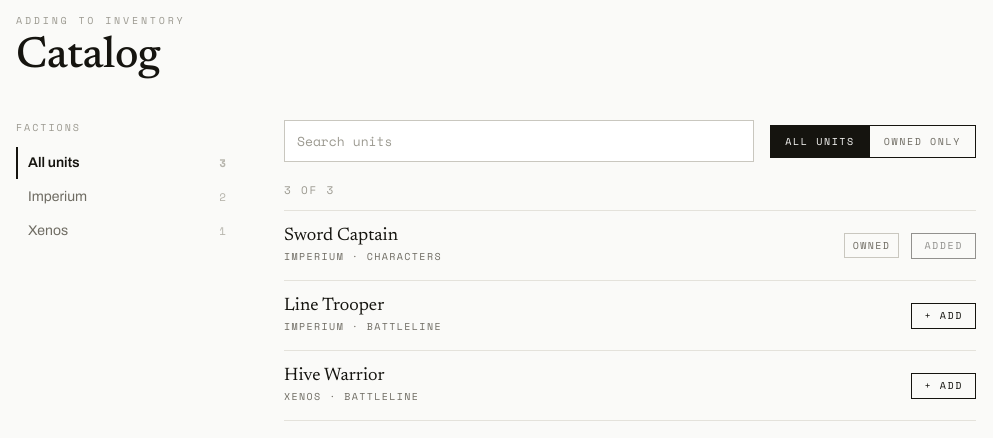
Scenario: CatalogView › filters units when a faction is selected
Check: the text "Hive Warrior" is shown, box [284, 367, 385, 385]
Click the button "Xenos 1": (126, 231) [16, 215, 236, 247]
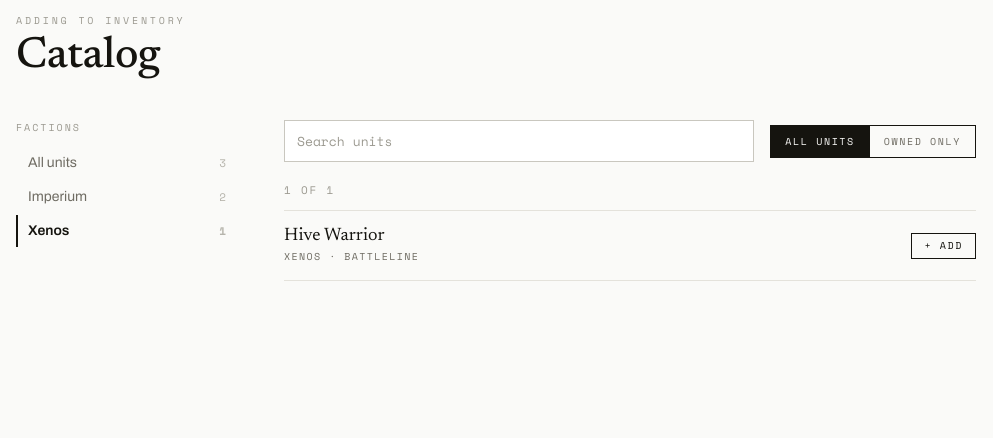
Check: the text "Hive Warrior" is shown, box [284, 227, 385, 245]
Check: the text "Sword Captain" is gone
